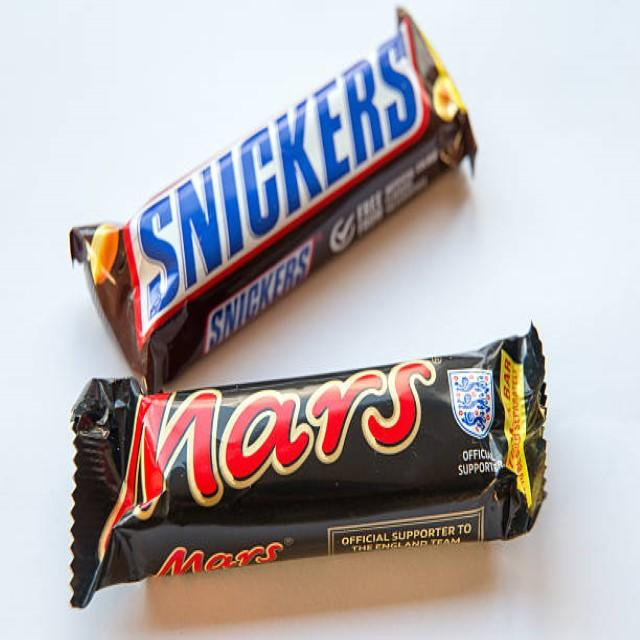mars_chocolate: (85, 330, 568, 588)
snickers_chocolate: (125, 0, 460, 363)
